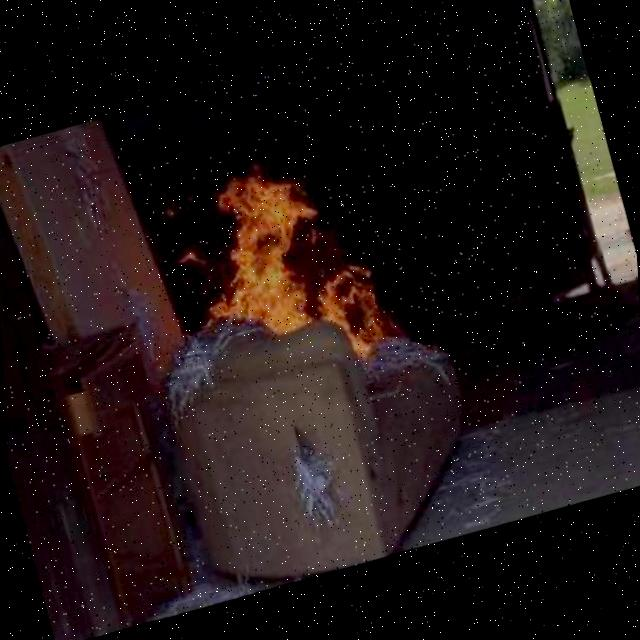fire: (164, 147, 346, 360), (305, 242, 419, 372)
